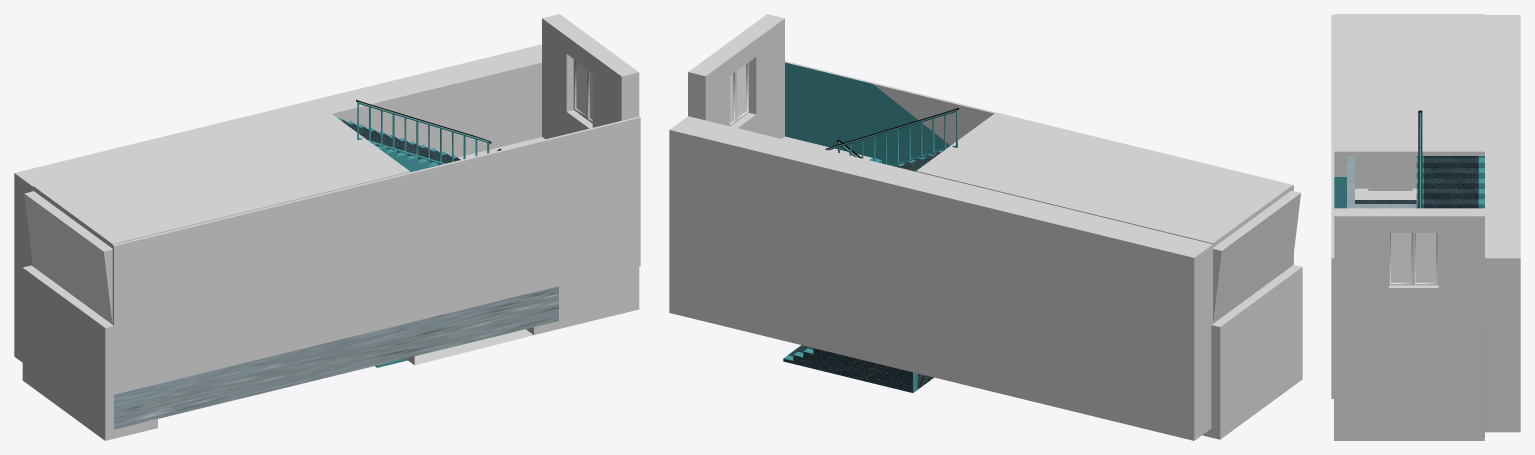
The model's file is подъезд.fbx.
3 renders of one model, left to right at view 1: azimuth 30°, elevation 25°; view 2: azimuth 150°, elevation 25°; view 3: azimuth 270°, elevation 25°, orthographic. The views are drawn at different scales.
Parts seen in each view (by area): view 1: Wall.001, Cube.006, Wall, Cube.003, Cube.004, Cube.008, Cube.005, Cube.002, Staircase.001, handstair.003, Window.001; view 2: Wall, Cube.006, Wall.001, Cube.004, Cube.008, Cube.005, Cube.009, handstair.003, Window.001; view 3: Cube.006, Cube.002, Cube.008, Wall, Staircase.001, Window.001, Wall.001, Doorpick, Cube.003, Cube.004, Cube.001, handstair.002 (+2 smaller).
Boxes of the visible parts, bbox=[...] form: Wall.001: bbox=[112, 116, 640, 394]; Cube.006: bbox=[33, 113, 410, 248]; Wall: bbox=[14, 44, 541, 362]; Cube.003: bbox=[114, 286, 558, 429]; Cube.004: bbox=[22, 265, 113, 440]; Cube.008: bbox=[542, 14, 639, 139]; Cube.005: bbox=[24, 191, 112, 324]; Cube.002: bbox=[405, 137, 639, 365]; Staircase.001: bbox=[338, 117, 460, 172]; handstair.003: bbox=[357, 102, 489, 164]; Window.001: bbox=[573, 59, 592, 123]; Wall: bbox=[669, 116, 1212, 440]; Cube.006: bbox=[916, 113, 1292, 247]; Wall.001: bbox=[785, 61, 1293, 265]; Cube.004: bbox=[1211, 265, 1302, 439]; Cube.008: bbox=[688, 14, 784, 138]; Cube.005: bbox=[1213, 190, 1300, 323]; Cube.009: bbox=[783, 345, 933, 392]; handstair.003: bbox=[826, 110, 957, 166]; Window.001: bbox=[730, 62, 748, 126]; Cube.006: bbox=[1334, 14, 1484, 155]; Cube.002: bbox=[1334, 328, 1484, 440]; Cube.008: bbox=[1334, 208, 1484, 328]; Wall: bbox=[1485, 15, 1520, 432]; Staircase.001: bbox=[1416, 156, 1484, 208]; Window.001: bbox=[1389, 233, 1438, 285]; Wall.001: bbox=[1331, 15, 1346, 398]; Doorpick: bbox=[1368, 156, 1412, 190]; Cube.003: bbox=[1347, 156, 1416, 208]; Cube.004: bbox=[1355, 156, 1416, 188]; Cube.001: bbox=[1355, 188, 1416, 199]; handstair.002: bbox=[1418, 110, 1422, 208].
Bounding box in the file's own units: 2437 × 1162 × 788.
